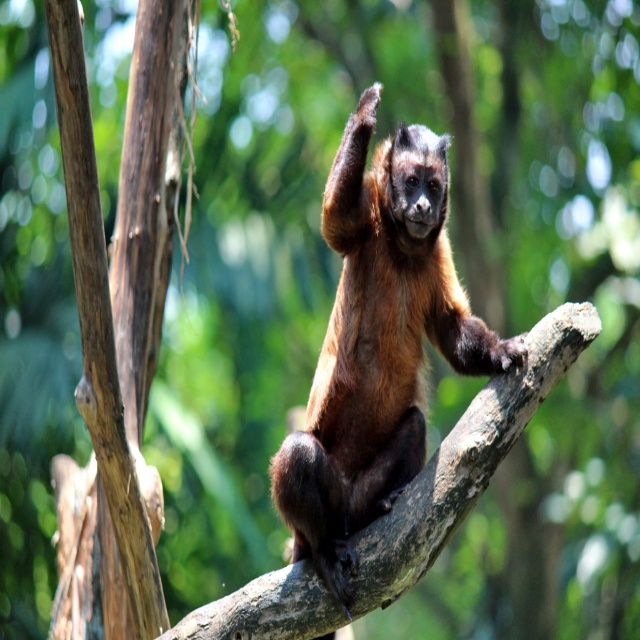Monkey: (267, 80, 528, 622)
